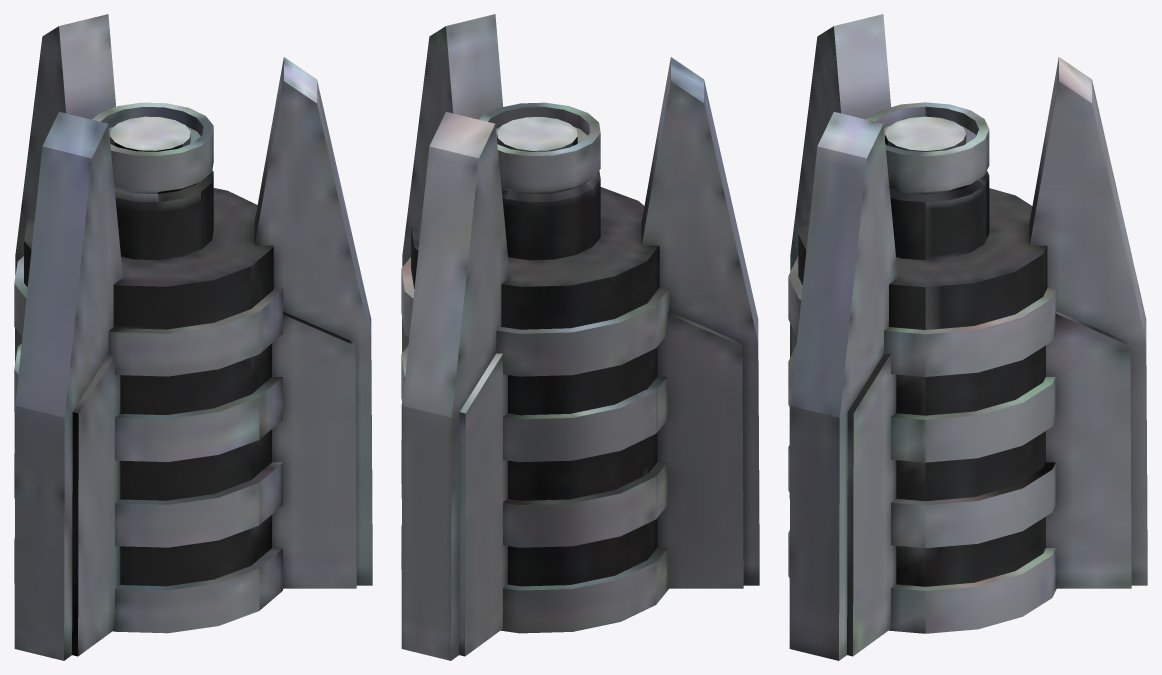
Rendered from revan_emitter.obj.
3 views of the same model, side by side, from view 1: azimuth 30°, elevation 25°; view 2: azimuth 150°, elevation 25°; view 3: azimuth 270°, elevation 25° (orthographic).
Visible parts, largest first — view 1: emitter; view 2: emitter; view 3: emitter.
Boxes of the visible parts, x1,y1,x2,y2 form: emitter: [14, 14, 372, 660]; emitter: [401, 14, 759, 660]; emitter: [788, 14, 1147, 660].
Size of the model in its own units: 0.1116 by 0.151 by 0.097.
